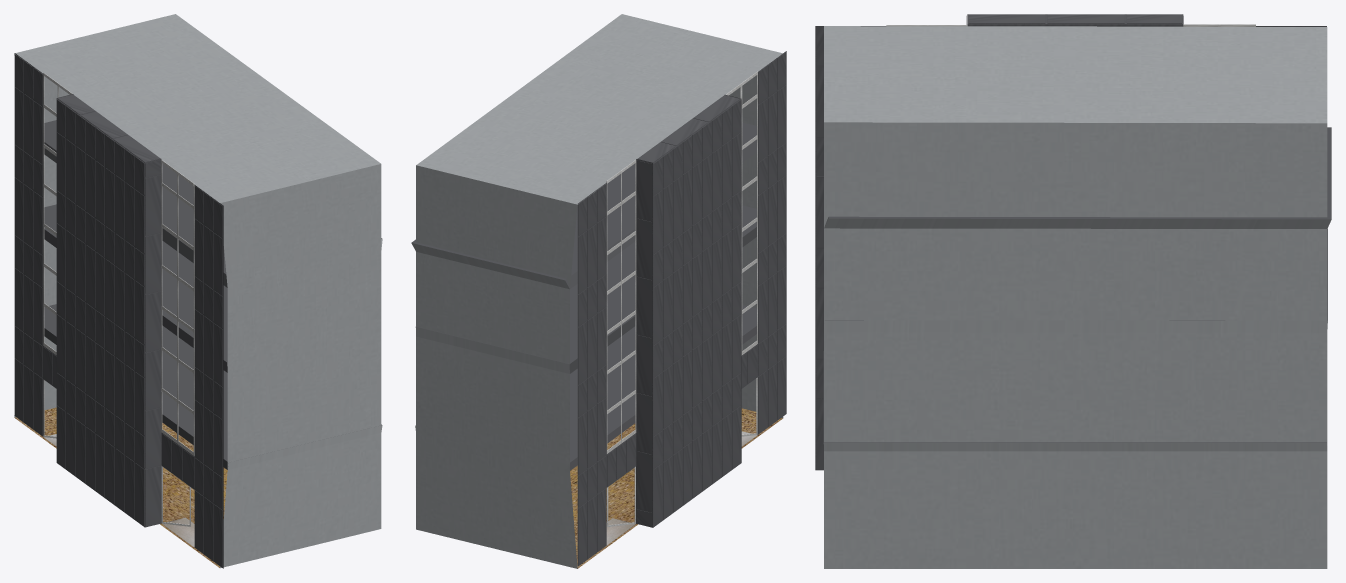
Rendered from EntranceWall.obj.
The picture shows the model from 3 angles, left to right: view 1: azimuth 30°, elevation 25°; view 2: azimuth 150°, elevation 25°; view 3: azimuth 270°, elevation 25°; orthographic projection. The views are drawn at different scales.
Visible parts, largest first — view 1: EntranceWall; view 2: EntranceWall; view 3: EntranceWall.
Boxes of the visible parts, x1,y1,x2,y2 form: EntranceWall: (14, 14, 382, 568); EntranceWall: (411, 14, 786, 568); EntranceWall: (815, 14, 1331, 568).
Size of the model in its own units: 22.01 by 42.5 by 44.35.
